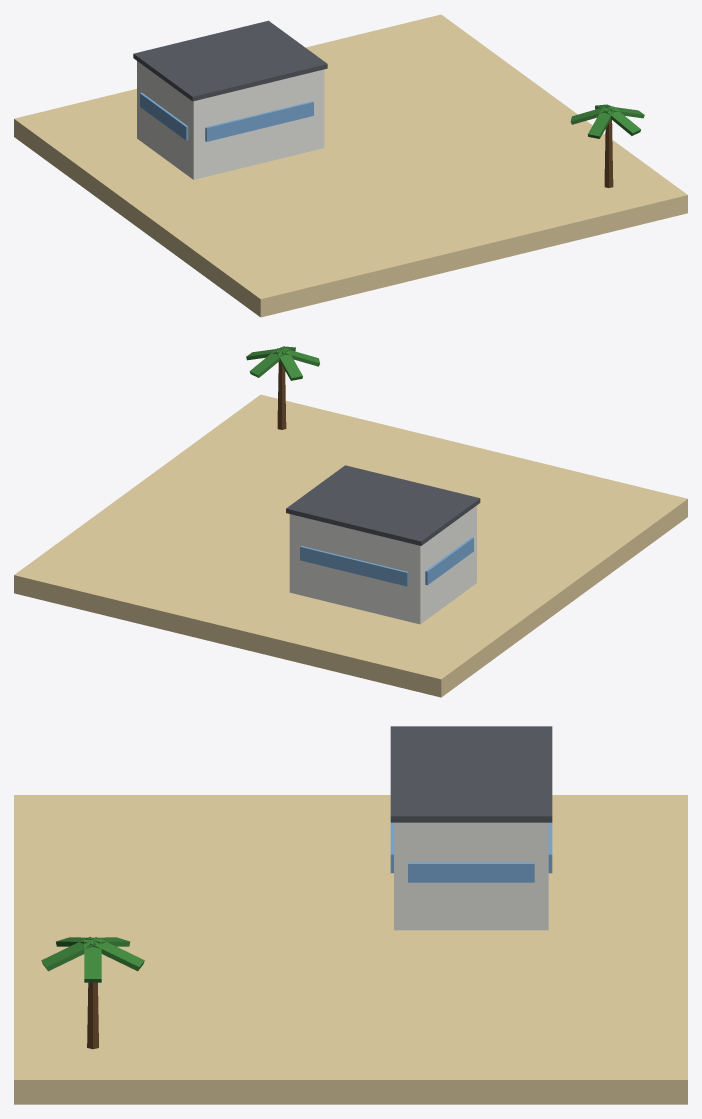
Rendered from tourism_rent_1.glb.
3 views of the same model, one above another, from view 1: azimuth 30°, elevation 25°; view 2: azimuth 150°, elevation 25°; view 3: azimuth 270°, elevation 25° (orthographic). The views are drawn at different scales.
Visible parts, largest first — view 1: tourism_rent_1; view 2: tourism_rent_1; view 3: tourism_rent_1.
Boxes of the visible parts, x1,y1,x2,y2 form: tourism_rent_1: (14,14,687,317); tourism_rent_1: (14,346,687,697); tourism_rent_1: (14,726,687,1104).
Size of the model in its own units: 1.96 by 0.45 by 1.96.
